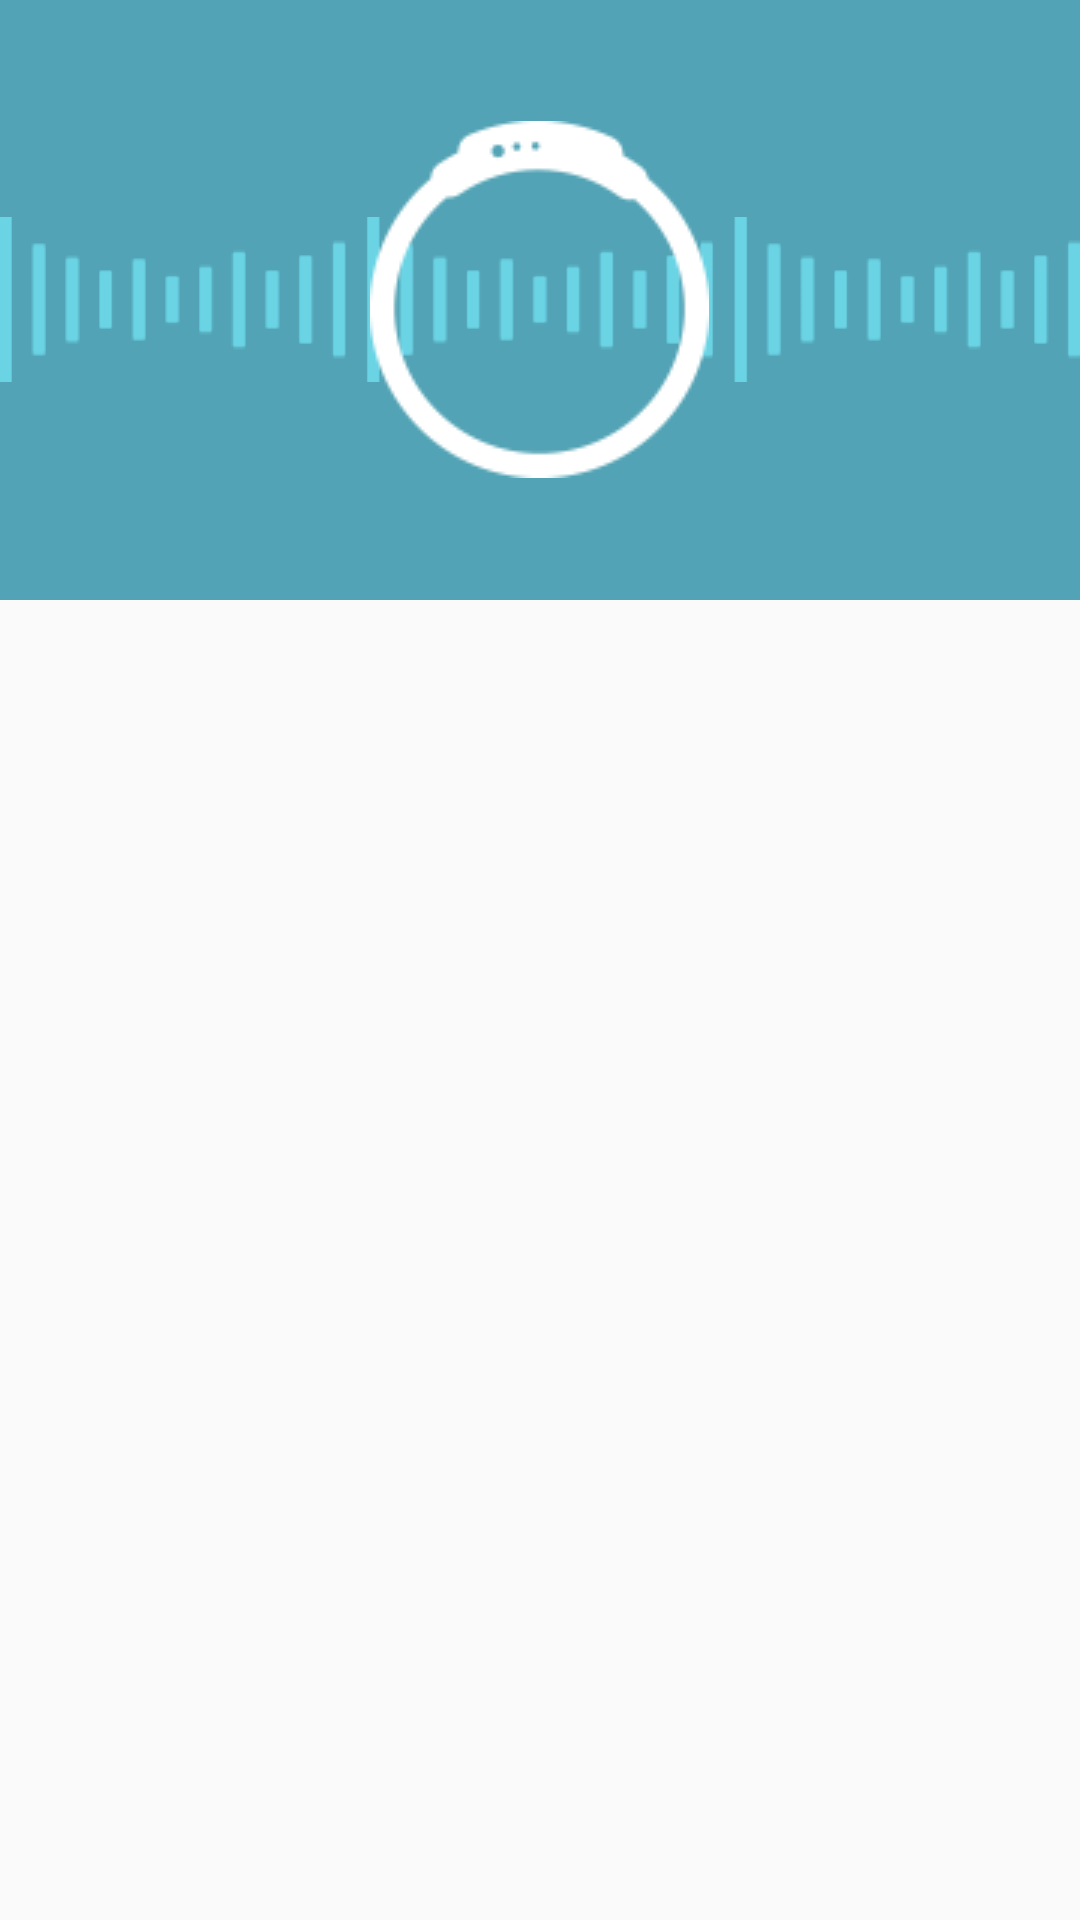

Icon bounding boxes for this 1080x1920 phone screenshot, format BBox(x1, y1, x2, y2):
band unconnect: BBox(370, 121, 709, 478)
